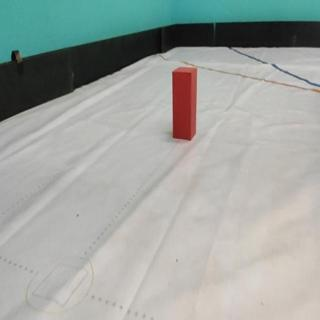redbox: (173, 64, 199, 140)
